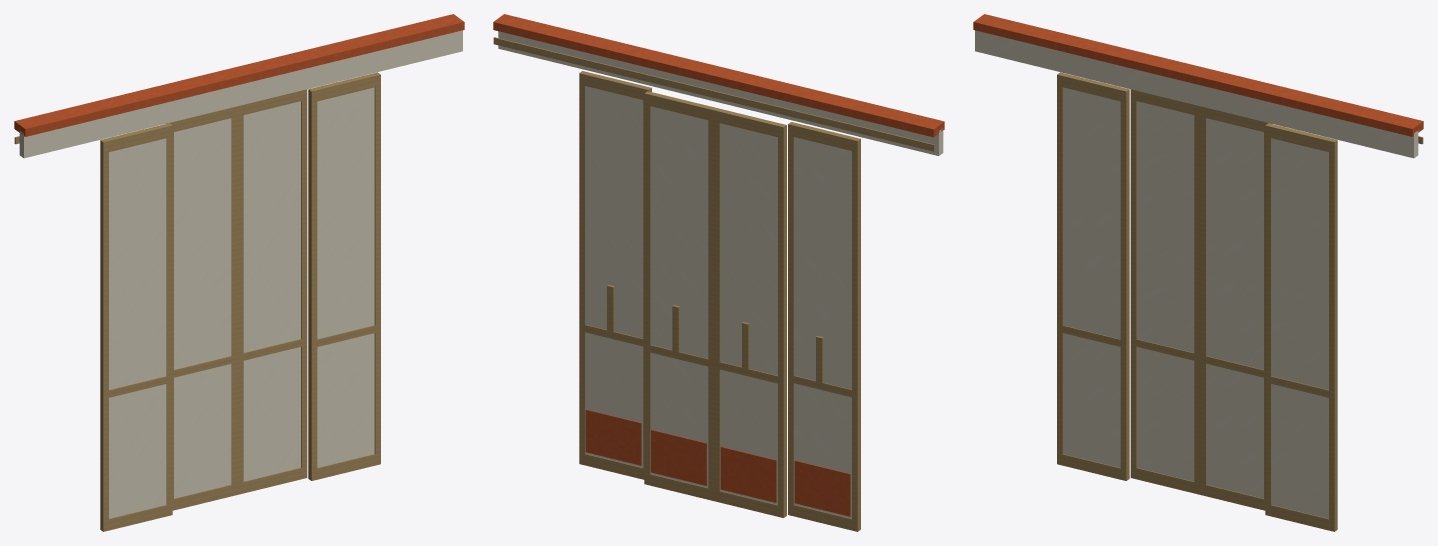
Rendered from retail_service_slider_r001.glb.
The picture shows the model from 3 angles, left to right: view 1: azimuth 30°, elevation 25°; view 2: azimuth 150°, elevation 25°; view 3: azimuth 330°, elevation 25°; orthographic projection.
Visible parts, largest first — view 1: Panel_L1_enamel, Panel_L0_enamel, Panel_R0_enamel, Panel_R1_enamel, track_back, track_cap, Panel_R0_stile_left, Panel_L0_stile_left, Panel_R1_stile_left, Panel_R1_stile_right, Panel_L0_stile_right, Panel_R0_stile_right (+10 smaller); view 2: Panel_R0_enamel, Panel_R1_enamel, Panel_L0_enamel, Panel_L1_enamel, track_cap, track_back, Panel_L0_stile_left, Panel_L1_stile_left, track_brass, Panel_R1_stile_right, Panel_L1_stile_right, Panel_R0_stile_right (+15 smaller); view 3: Panel_R1_enamel, Panel_L0_enamel, Panel_R0_enamel, Panel_L1_enamel, track_back, track_cap, Panel_L0_stile_right, Panel_R0_stile_right, Panel_L1_stile_left, Panel_L1_stile_right, Panel_L0_stile_left, Panel_R0_stile_left (+10 smaller).
Boxes of the visible parts, x1=… form: Panel_L1_enamel: x1=174, y1=118, x2=231, y2=498; Panel_L0_enamel: x1=109, y1=138, x2=166, y2=518; Panel_R0_enamel: x1=317, y1=87, x2=374, y2=467; Panel_R1_enamel: x1=243, y1=101, x2=300, y2=481; track_back: x1=19, y1=30, x2=462, y2=158; track_cap: x1=14, y1=14, x2=464, y2=136; Panel_R0_stile_left: x1=308, y1=88, x2=317, y2=480; Panel_L0_stile_left: x1=100, y1=138, x2=108, y2=531; Panel_R1_stile_left: x1=237, y1=105, x2=243, y2=494; Panel_R1_stile_right: x1=301, y1=89, x2=307, y2=478; Panel_L0_stile_right: x1=164, y1=123, x2=172, y2=516; Panel_R0_stile_right: x1=372, y1=72, x2=380, y2=465; Panel_R0_enamel: x1=585, y1=86, x2=643, y2=467; Panel_R1_enamel: x1=650, y1=106, x2=708, y2=487; Panel_L0_enamel: x1=794, y1=137, x2=851, y2=518; Panel_L1_enamel: x1=720, y1=123, x2=777, y2=504; track_cap: x1=493, y1=14, x2=944, y2=137; track_back: x1=498, y1=31, x2=943, y2=155; Panel_L0_stile_left: x1=852, y1=137, x2=860, y2=531; Panel_L1_stile_left: x1=778, y1=123, x2=786, y2=517; track_brass: x1=493, y1=37, x2=934, y2=151; Panel_R1_stile_right: x1=644, y1=91, x2=652, y2=485; Panel_L1_stile_right: x1=714, y1=108, x2=722, y2=502; Panel_R0_stile_right: x1=579, y1=71, x2=587, y2=465; Panel_R1_enamel: x1=1206, y1=118, x2=1263, y2=498; Panel_L0_enamel: x1=1063, y1=87, x2=1120, y2=467; Panel_R0_enamel: x1=1271, y1=138, x2=1328, y2=518; Panel_L1_enamel: x1=1137, y1=101, x2=1194, y2=481; track_back: x1=975, y1=30, x2=1418, y2=158; track_cap: x1=973, y1=14, x2=1423, y2=136; Panel_L0_stile_right: x1=1120, y1=88, x2=1129, y2=480; Panel_R0_stile_right: x1=1329, y1=138, x2=1337, y2=531; Panel_L1_stile_left: x1=1130, y1=89, x2=1136, y2=478; Panel_L1_stile_right: x1=1194, y1=105, x2=1200, y2=494; Panel_L0_stile_left: x1=1057, y1=72, x2=1065, y2=465; Panel_R0_stile_left: x1=1265, y1=123, x2=1273, y2=516.
Size of the model in its own units: 3.48 by 3.22 by 0.195.
Materials: 3 (3 with a texture image).
